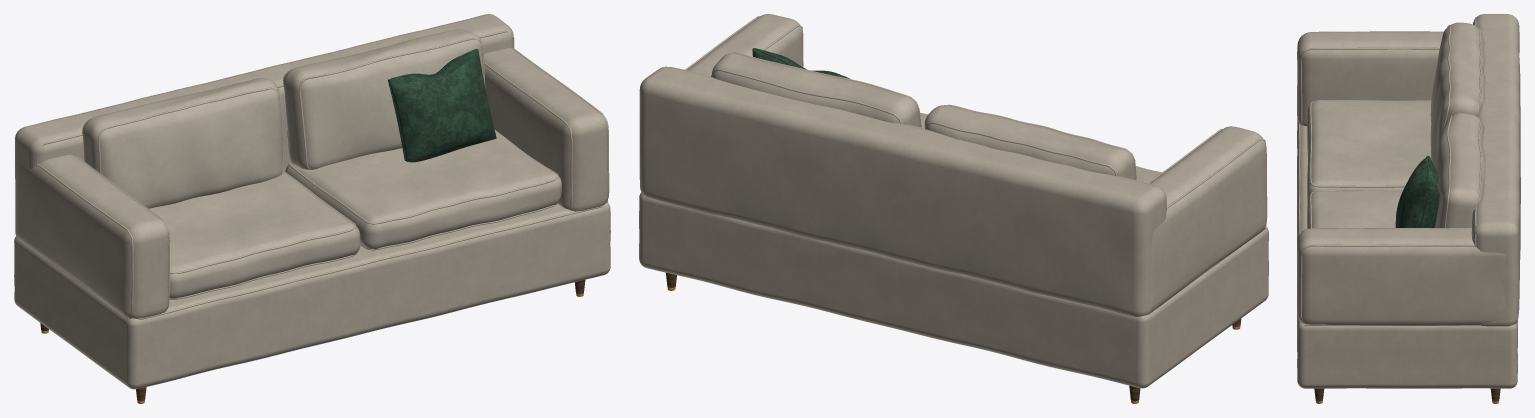
File: noi-that-sofa.glb
3 views of the same model, side by side, from view 1: azimuth 30°, elevation 25°; view 2: azimuth 150°, elevation 25°; view 3: azimuth 270°, elevation 25° (orthographic). The views are drawn at different scales.
Parts seen in each view (by area): view 1: Base, BackCushion_left, SeatCushion_right, Arm_left, SeatCushion_left, BackCushion_right, Arm_right, ThrowCushion, Back; view 2: Back, Base, Arm_left, BackCushion_left, BackCushion_right, Arm_right; view 3: Arm_right, Base, Back, SeatCushion_left, Arm_left, BackCushion_right, BackCushion_left, SeatCushion_right, ThrowCushion.
Boxes of the visible parts, x1,y1,x2,y2 form: Base: (14, 201, 610, 389); BackCushion_left: (82, 78, 284, 208); SeatCushion_right: (285, 129, 561, 250); Arm_left: (16, 155, 170, 318); SeatCushion_left: (149, 171, 360, 299); BackCushion_right: (283, 29, 485, 169); Arm_right: (484, 48, 609, 211); ThrowCushion: (388, 49, 496, 162); Back: (15, 14, 514, 247); Back: (639, 66, 1166, 316); Base: (639, 192, 1268, 388); Arm_left: (1148, 126, 1267, 312); BackCushion_left: (924, 104, 1136, 180); BackCushion_right: (711, 52, 921, 127); Arm_right: (685, 14, 803, 75); Arm_right: (1297, 228, 1506, 325); Base: (1297, 119, 1517, 388); Back: (1471, 14, 1520, 326); SeatCushion_left: (1307, 100, 1431, 200); Arm_left: (1297, 31, 1443, 126); BackCushion_right: (1434, 113, 1485, 227); BackCushion_left: (1430, 22, 1485, 166); SeatCushion_right: (1307, 190, 1402, 228); ThrowCushion: (1395, 155, 1439, 227).
Size of the model in its own units: 2.2 by 0.9393 by 0.955.
4 materials, 4 textured.
